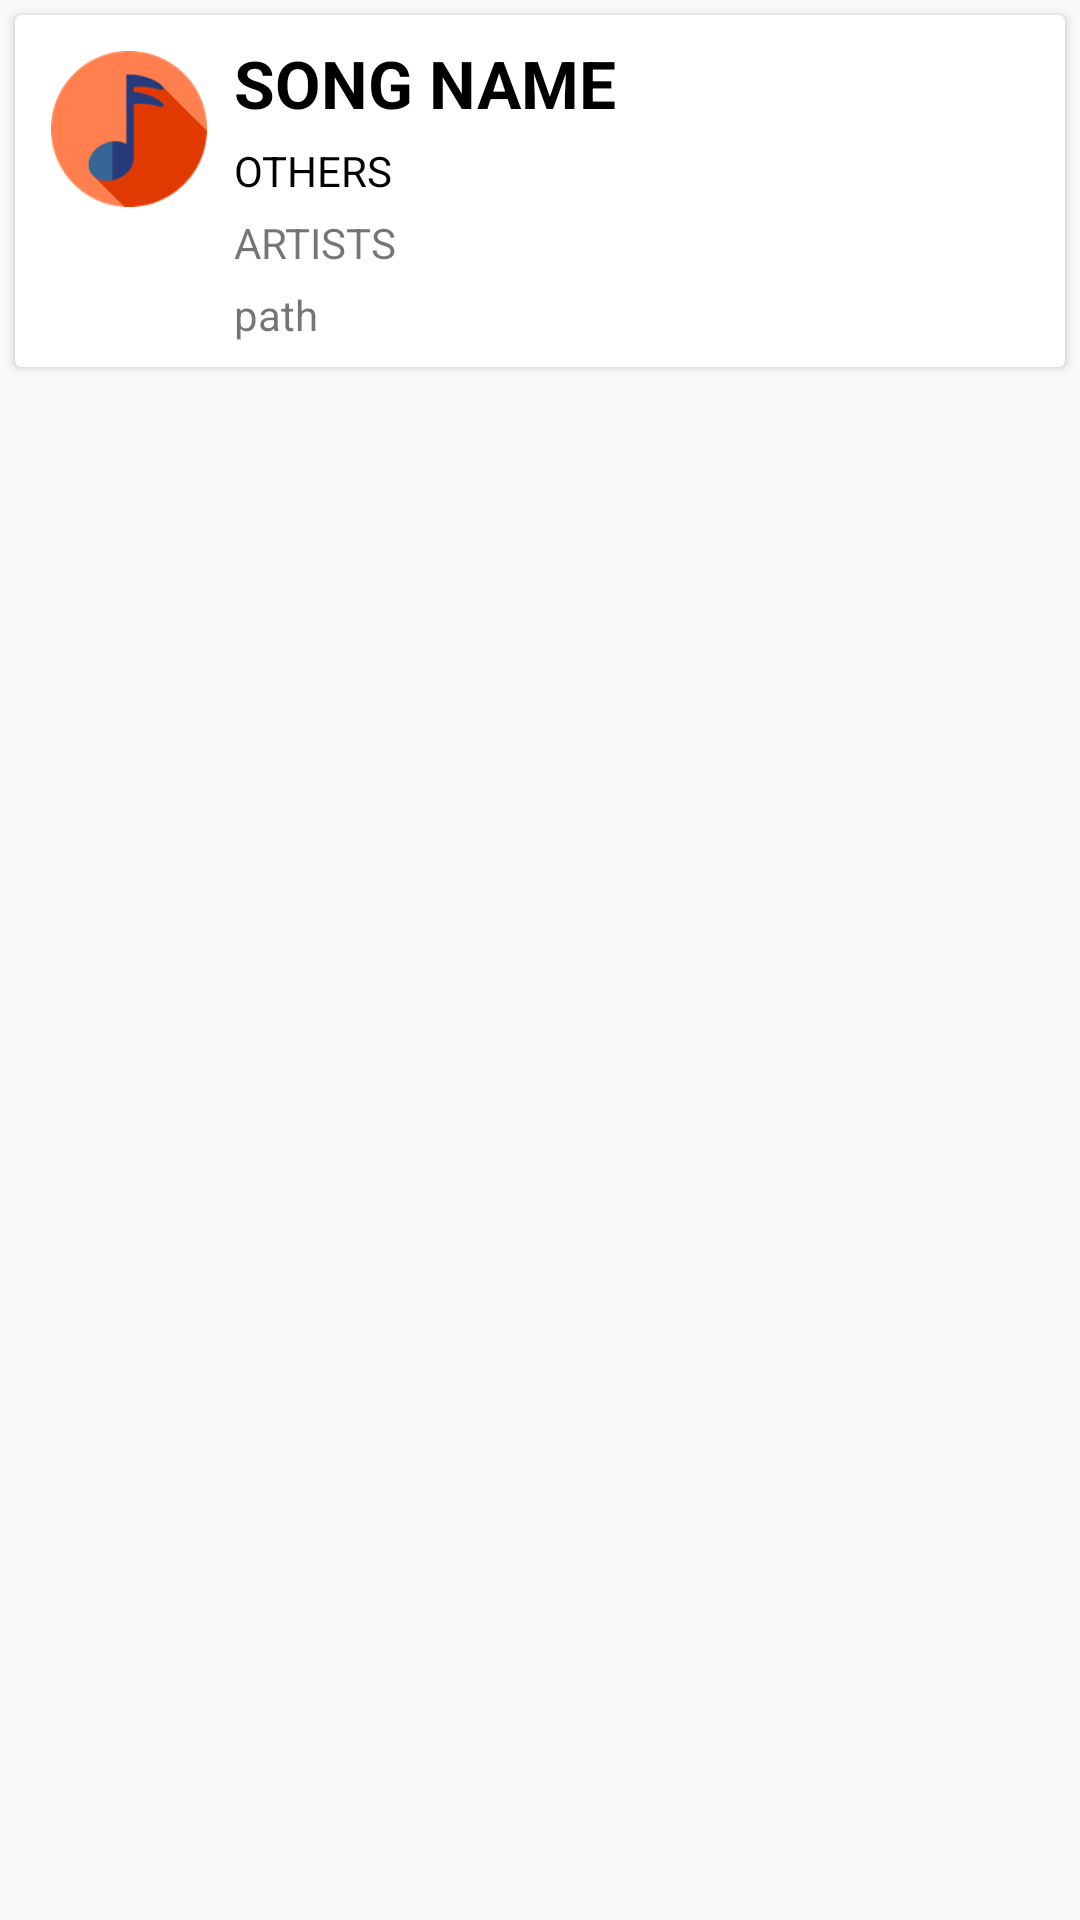

Screen size 1080px x 1920px. Icon name, then its center in pixels as point (x, y):
multimedia: point (129, 129)
